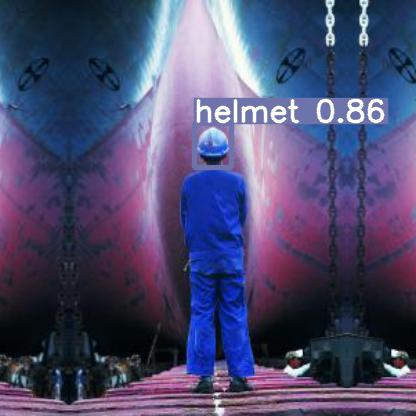helmet: (194, 123, 231, 167)
